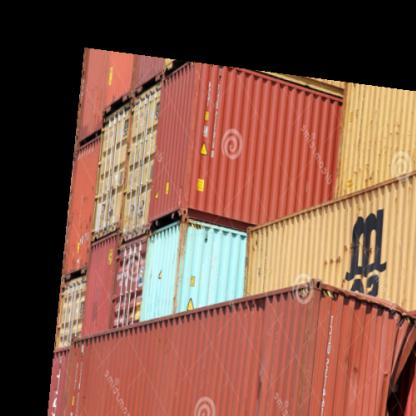Damage: (364, 328, 416, 401)
